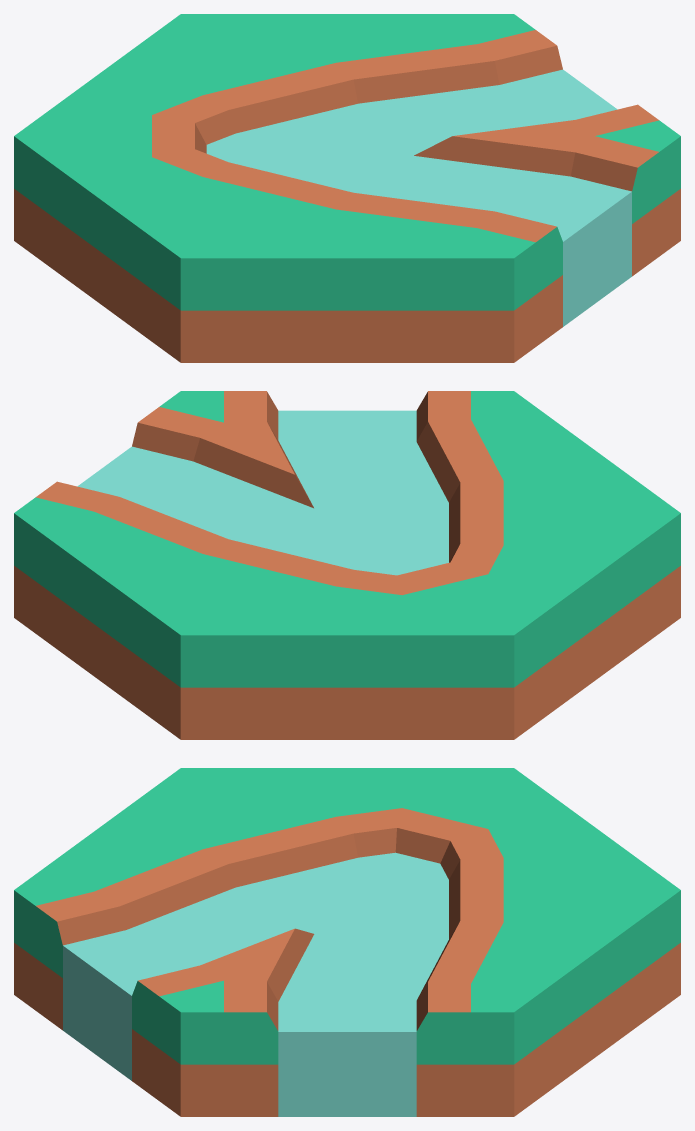
The model's file is River Corner Sharp.glb.
The picture shows the model from 3 angles, top to bottom: view 1: azimuth 30°, elevation 25°; view 2: azimuth 150°, elevation 25°; view 3: azimuth 270°, elevation 25°; orthographic projection.
Parts seen in each view (by area): view 1: river_cornerSharp; view 2: river_cornerSharp; view 3: river_cornerSharp.
Boxes of the visible parts, <box> form: river_cornerSharp: <box>14,14,680,362</box>; river_cornerSharp: <box>14,391,680,739</box>; river_cornerSharp: <box>14,768,680,1116</box>.
Size of the model in its own units: 1 by 0.2 by 1.15.
